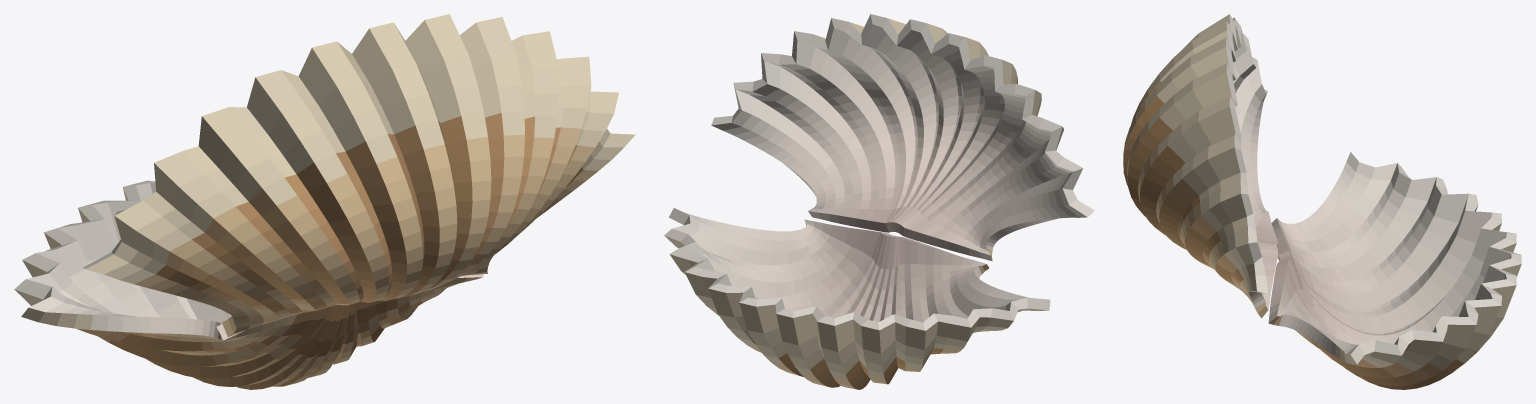
The model's file is Clam_Open_Empty.glb.
3 views of the same model, side by side, from view 1: azimuth 30°, elevation 25°; view 2: azimuth 150°, elevation 25°; view 3: azimuth 270°, elevation 25° (orthographic). The views are drawn at different scales.
Parts seen in each view (by area): view 1: Clam_Open_Empty; view 2: Clam_Open_Empty; view 3: Clam_Open_Empty.
Part boxes in pixels (x1,y1,x2,y2): Clam_Open_Empty: [14, 14, 635, 389]; Clam_Open_Empty: [664, 14, 1094, 389]; Clam_Open_Empty: [1123, 14, 1521, 389].
Size of the model in its own units: 1.99 by 1.51 by 1.64.
